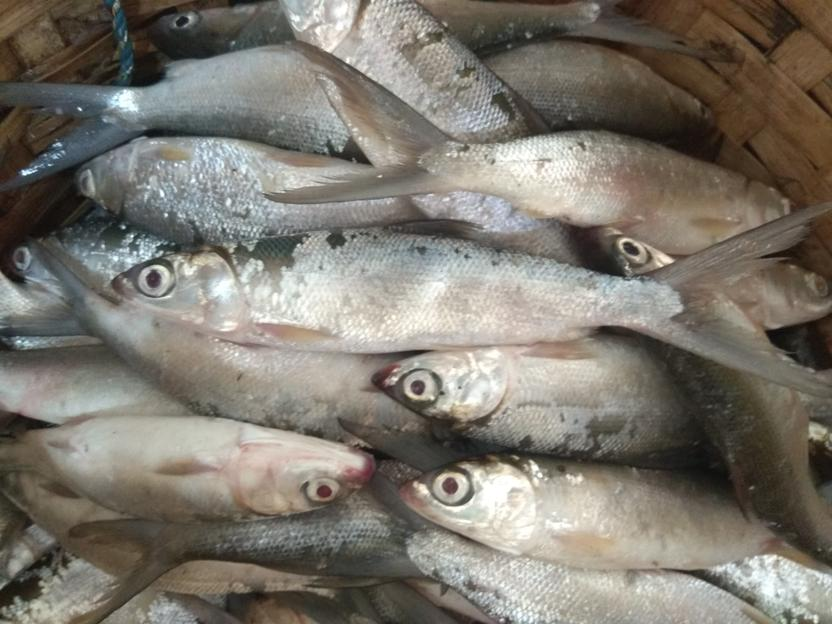Fish head: (402, 452, 544, 558), (109, 241, 247, 343), (231, 424, 377, 518), (372, 348, 512, 428), (585, 223, 676, 280), (9, 227, 72, 286), (667, 78, 716, 147)
Fish tail: (656, 198, 832, 400), (256, 35, 455, 205), (255, 464, 443, 584), (1, 79, 132, 190), (66, 517, 179, 623), (1, 235, 99, 338), (566, 1, 732, 60), (156, 1, 262, 58)
